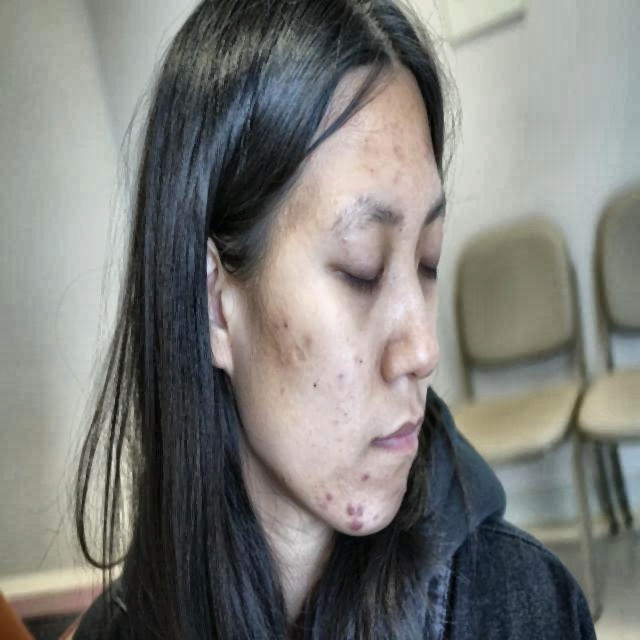pustule: (360, 457, 379, 490), (281, 340, 302, 364), (346, 514, 366, 534), (322, 480, 334, 509), (355, 498, 366, 517), (344, 496, 353, 514)
